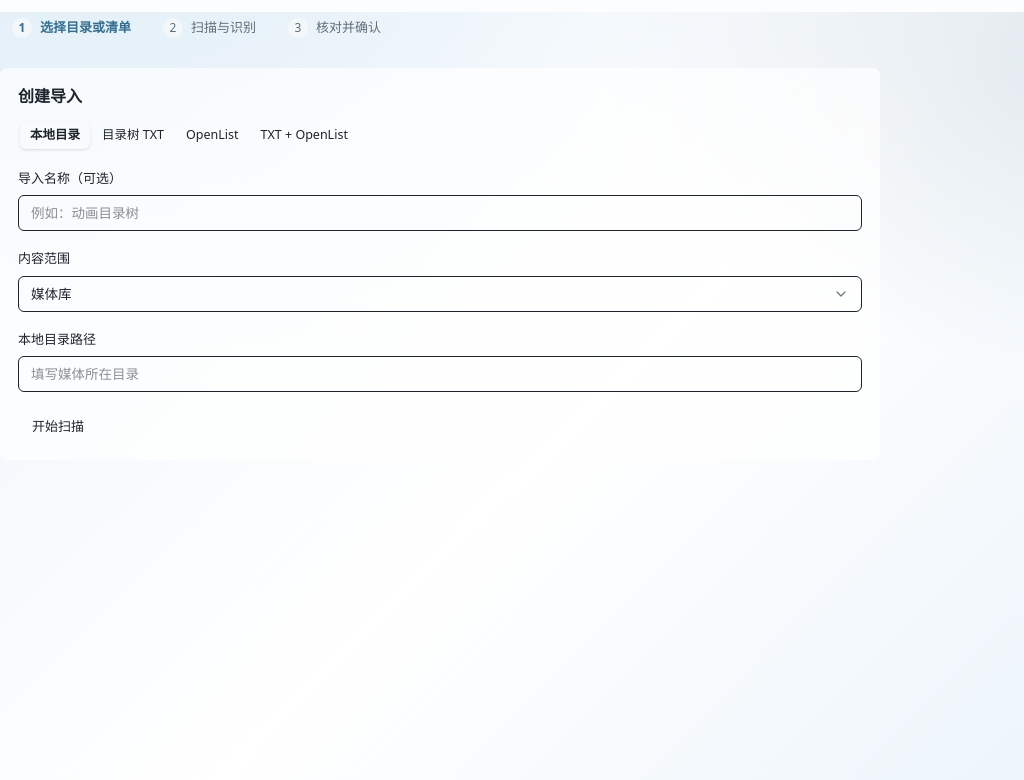
it: TXT 路径多解的映射选择（F8） › 选定候选后用同一份请求快照重发，拿到非空 scan_id 才开始扫描
Step 1. Click the radio button labelled "目录树 TXT" → point(133, 135), box [92,122,174,149]
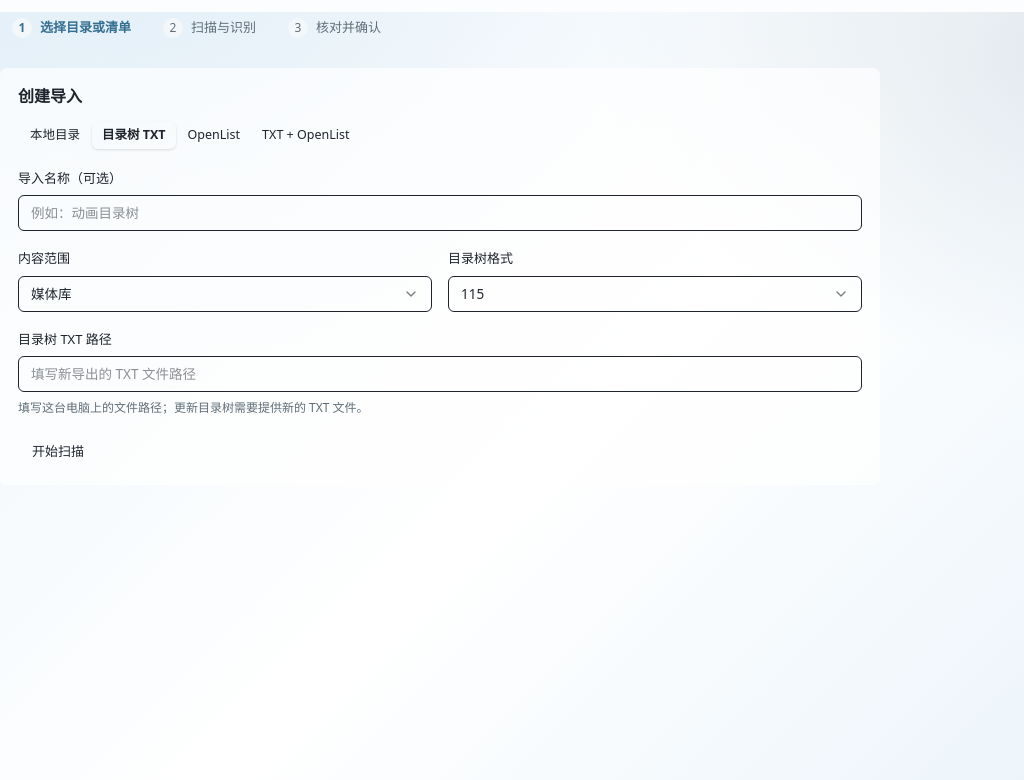
Step 2. Type "D:\\Trees\\115-anime.txt" into the field labelled "目录树 TXT 路径" → point(440, 374), box [18,356,862,392]
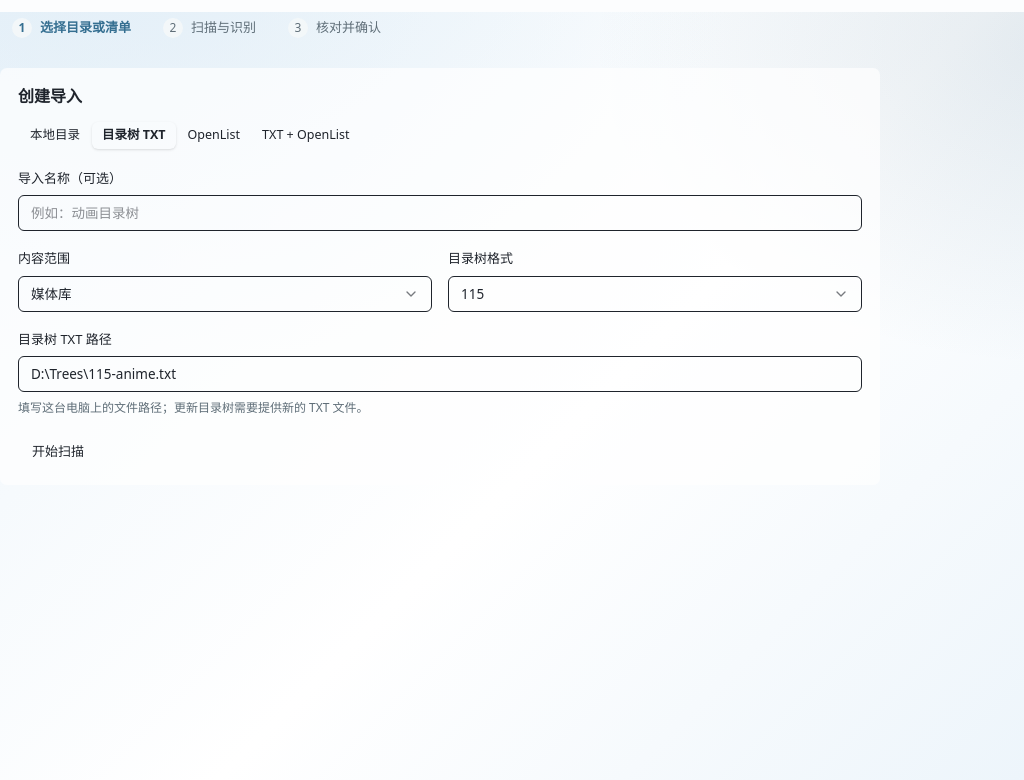
Step 3. Click the button "开始扫描" → point(58, 451), box [18,433,98,469]
(page scrolled)
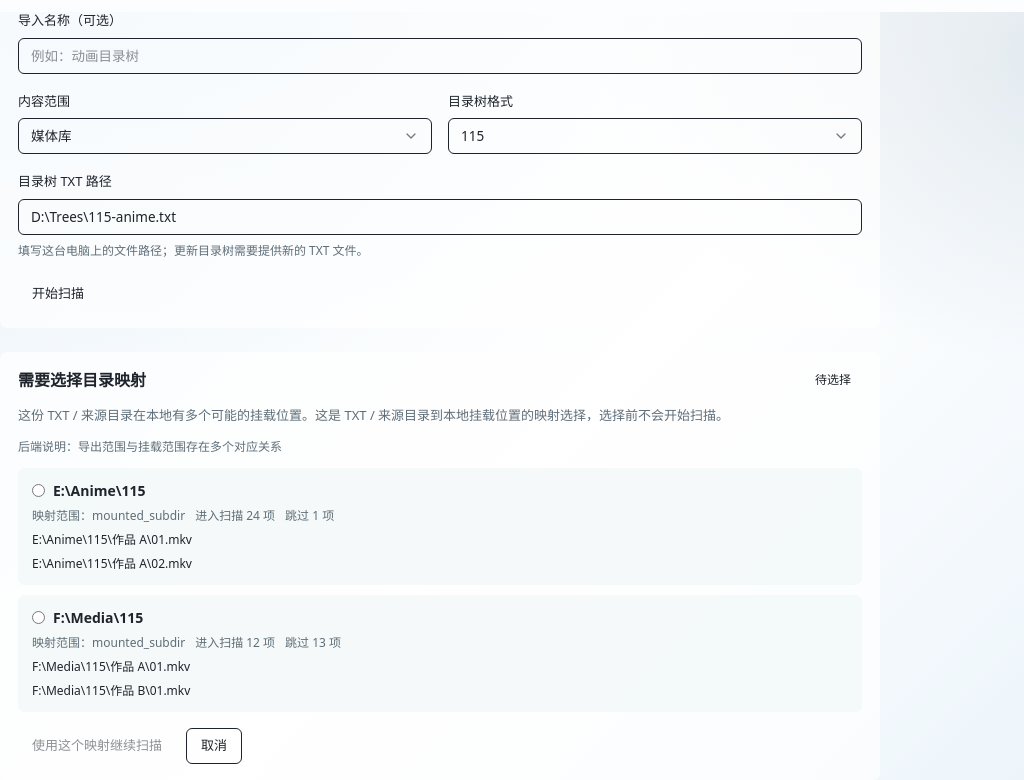
Expected: the text "已开始扫描" is not shown
Expected: the element named "目录映射选择" is shown, [0,352,880,779]
Step 4. Click the radio button labelled "F:\\Media\\115" → point(38, 617), box [32,611,45,624]
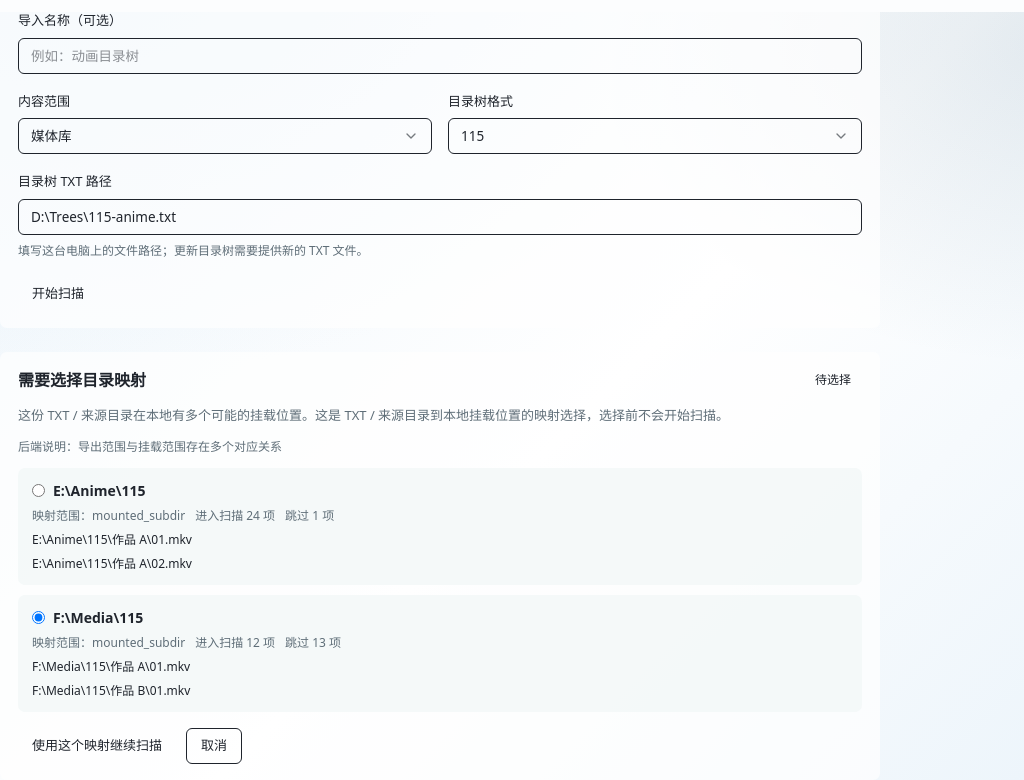
Step 5. Click the button "使用这个映射继续扫描" → point(97, 746), box [18,728,176,764]
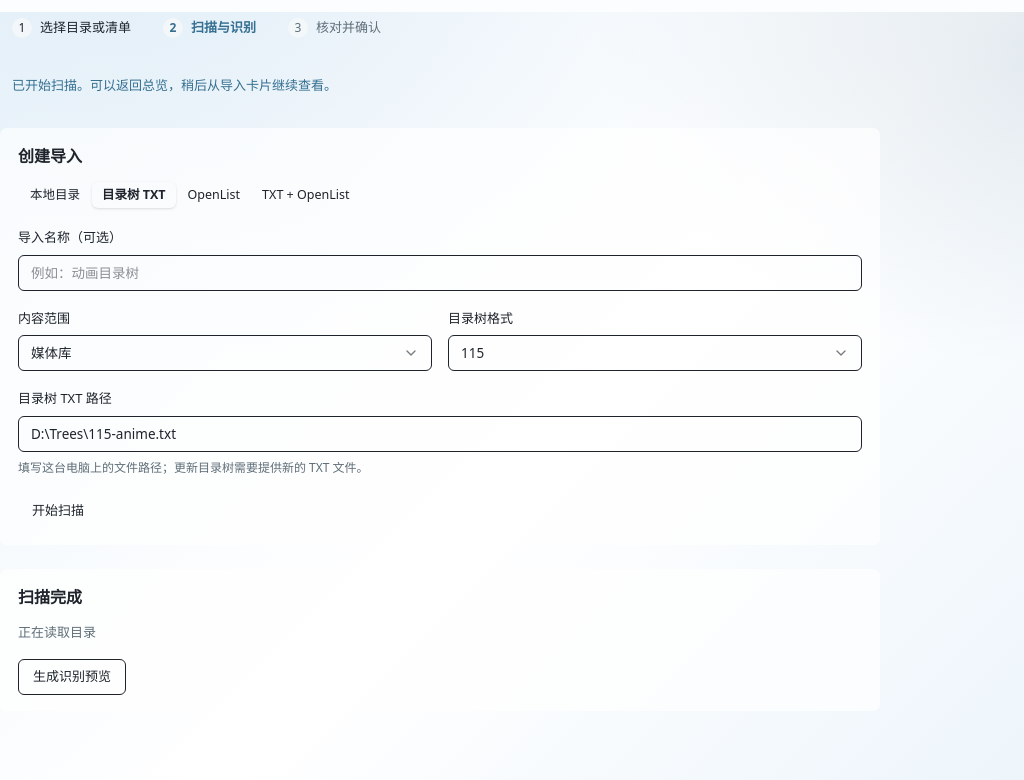
Expected: the text "已开始扫描。可以返回总览，稍后从导入卡片继续查看。" is shown, [12,76,337,94]
Expected: the element "目录映射选择" is gone
Expected: the element named "扫描进度" is shown, [0,569,880,711]
